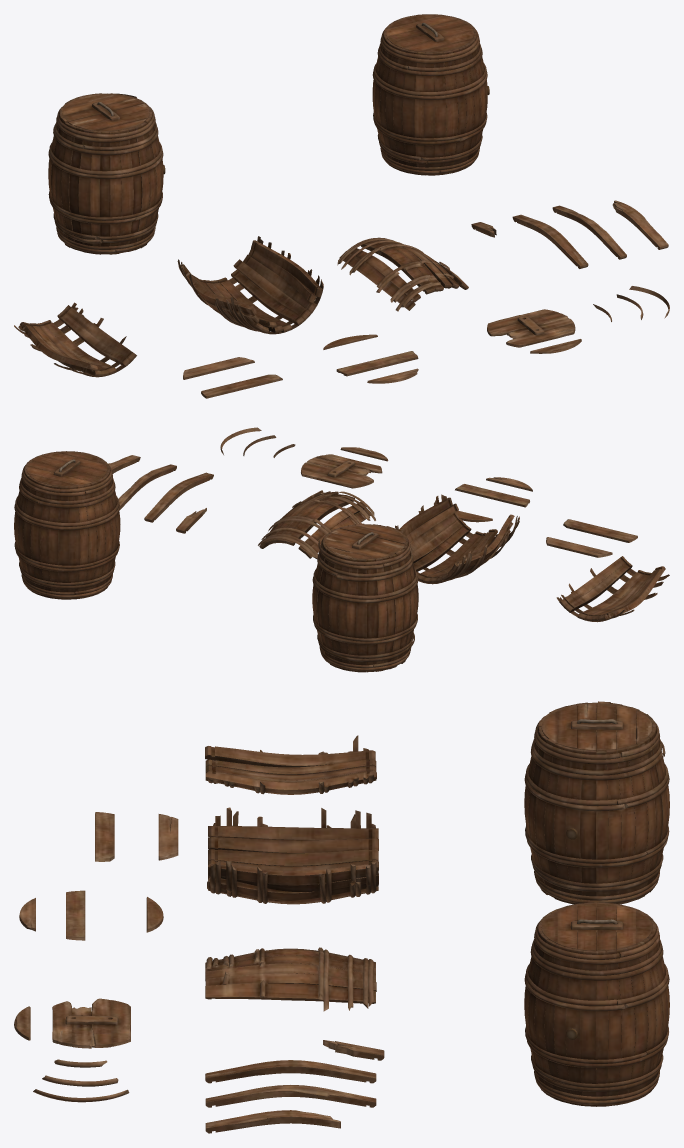
File: wooden_barrels_01.glb
3 renders of one model, top to bottom at view 1: azimuth 30°, elevation 25°; view 2: azimuth 150°, elevation 25°; view 3: azimuth 270°, elevation 25°, orthographic. The views are drawn at different scales.
Visible parts, largest first — view 1: wooden_barrels_01_barrel02, wooden_barrels_01_barrel01, wooden_barrels_01_piece01, wooden_barrels_01_piece03, wooden_barrels_01_piece02, wooden_barrels_01_piece08, wooden_barrels_01_piece04, wooden_barrels_01_piece05, wooden_barrels_01_piece06, wooden_barrels_01_piece11, wooden_barrels_01_piece14, wooden_barrels_01_piece13; view 2: wooden_barrels_01_barrel02, wooden_barrels_01_barrel01, wooden_barrels_01_piece01, wooden_barrels_01_piece03, wooden_barrels_01_piece02, wooden_barrels_01_piece08, wooden_barrels_01_piece04, wooden_barrels_01_piece14, wooden_barrels_01_piece11, wooden_barrels_01_piece05, wooden_barrels_01_piece13; view 3: wooden_barrels_01_barrel01, wooden_barrels_01_barrel02, wooden_barrels_01_piece01, wooden_barrels_01_piece03, wooden_barrels_01_piece02, wooden_barrels_01_piece08, wooden_barrels_01_piece04, wooden_barrels_01_piece05, wooden_barrels_01_piece06, wooden_barrels_01_piece11, wooden_barrels_01_piece14, wooden_barrels_01_piece13 (+1 smaller).
Boxes of the visible parts, x1=… form: wooden_barrels_01_barrel02: x1=48, y1=93, x2=165, y2=254; wooden_barrels_01_barrel01: x1=372, y1=14, x2=489, y2=175; wooden_barrels_01_piece01: x1=177, y1=236, x2=323, y2=334; wooden_barrels_01_piece03: x1=337, y1=237, x2=468, y2=311; wooden_barrels_01_piece02: x1=14, y1=302, x2=136, y2=377; wooden_barrels_01_piece08: x1=487, y1=309, x2=575, y2=347; wooden_barrels_01_piece04: x1=512, y1=214, x2=588, y2=268; wooden_barrels_01_piece05: x1=552, y1=205, x2=626, y2=259; wooden_barrels_01_piece06: x1=612, y1=200, x2=668, y2=249; wooden_barrels_01_piece11: x1=336, y1=351, x2=418, y2=376; wooden_barrels_01_piece14: x1=201, y1=374, x2=282, y2=398; wooden_barrels_01_piece13: x1=183, y1=357, x2=254, y2=379; wooden_barrels_01_barrel02: x1=312, y1=523, x2=418, y2=672; wooden_barrels_01_barrel01: x1=14, y1=451, x2=120, y2=599; wooden_barrels_01_piece01: x1=395, y1=494, x2=519, y2=584; wooden_barrels_01_piece03: x1=258, y1=490, x2=375, y2=558; wooden_barrels_01_piece02: x1=556, y1=556, x2=669, y2=622; wooden_barrels_01_piece08: x1=301, y1=454, x2=382, y2=488; wooden_barrels_01_piece04: x1=144, y1=472, x2=213, y2=522; wooden_barrels_01_piece14: x1=563, y1=519, x2=637, y2=542; wooden_barrels_01_piece11: x1=455, y1=484, x2=529, y2=507; wooden_barrels_01_piece05: x1=118, y1=464, x2=176, y2=510; wooden_barrels_01_piece13: x1=546, y1=537, x2=612, y2=557; wooden_barrels_01_barrel01: x1=524, y1=902, x2=669, y2=1106; wooden_barrels_01_barrel02: x1=524, y1=701, x2=669, y2=904; wooden_barrels_01_piece01: x1=207, y1=807, x2=378, y2=904; wooden_barrels_01_piece03: x1=205, y1=947, x2=376, y2=1011; wooden_barrels_01_piece02: x1=205, y1=735, x2=376, y2=794; wooden_barrels_01_piece08: x1=52, y1=998, x2=130, y2=1048; wooden_barrels_01_piece04: x1=205, y1=1060, x2=376, y2=1083; wooden_barrels_01_piece05: x1=205, y1=1085, x2=376, y2=1107; wooden_barrels_01_piece06: x1=205, y1=1110, x2=340, y2=1133; wooden_barrels_01_piece11: x1=66, y1=890, x2=85, y2=940; wooden_barrels_01_piece14: x1=95, y1=812, x2=114, y2=861; wooden_barrels_01_piece13: x1=158, y1=814, x2=178, y2=860.
Size of the model in its own units: 4.44 by 0.9567 by 3.34.
3 materials, 3 textured.
